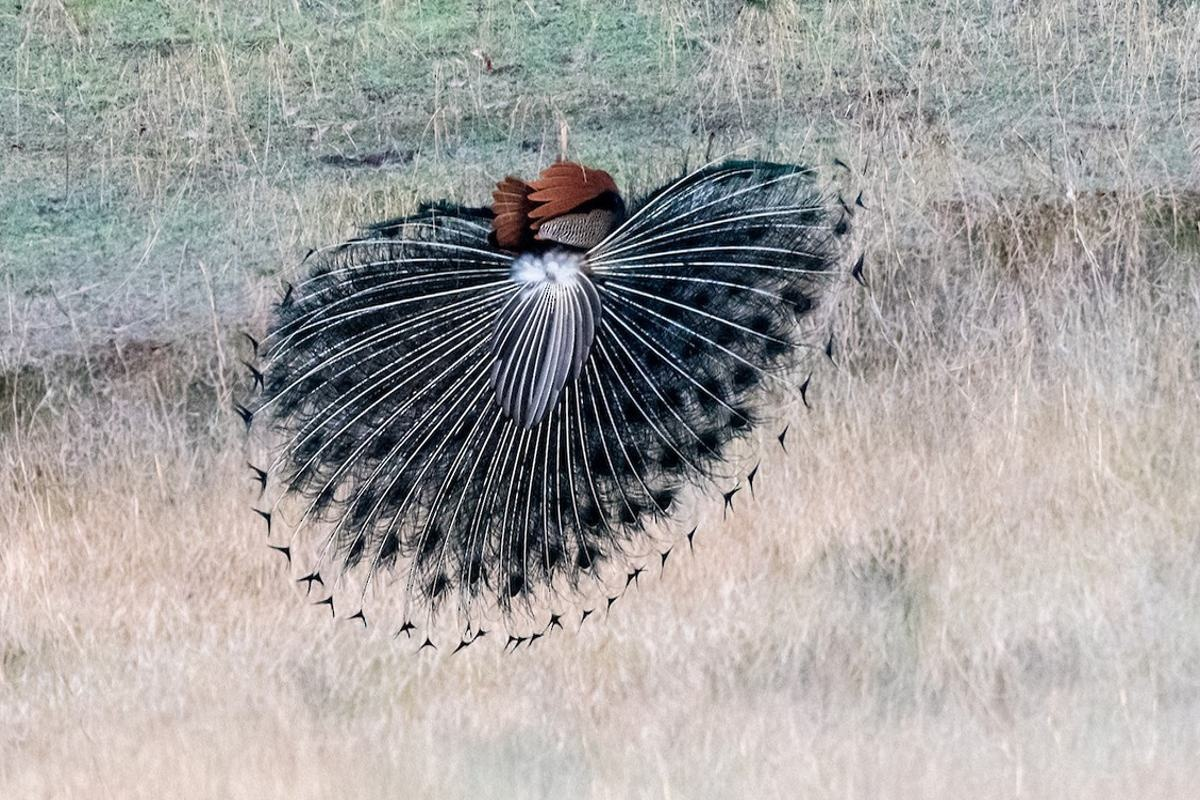peacock: (216, 125, 878, 663)
